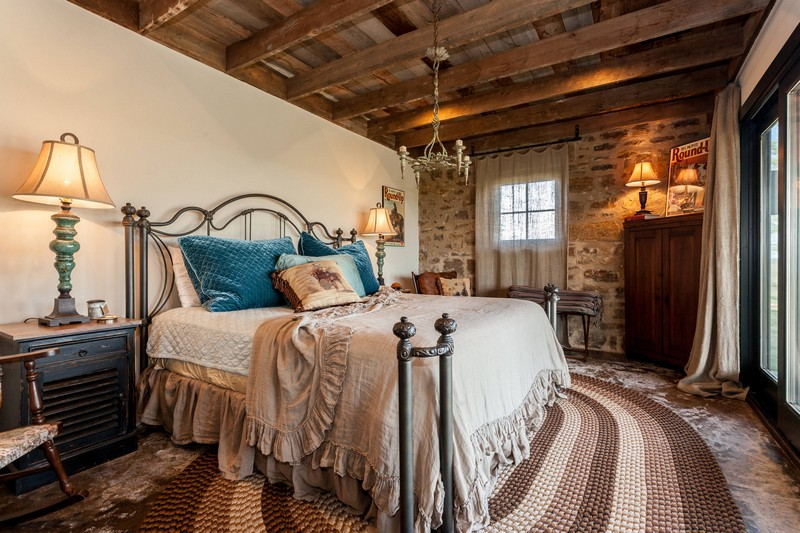bed: (124, 197, 576, 519)
lamp: (13, 131, 113, 331), (363, 202, 402, 286), (625, 155, 663, 222)
stool: (6, 320, 141, 472)
